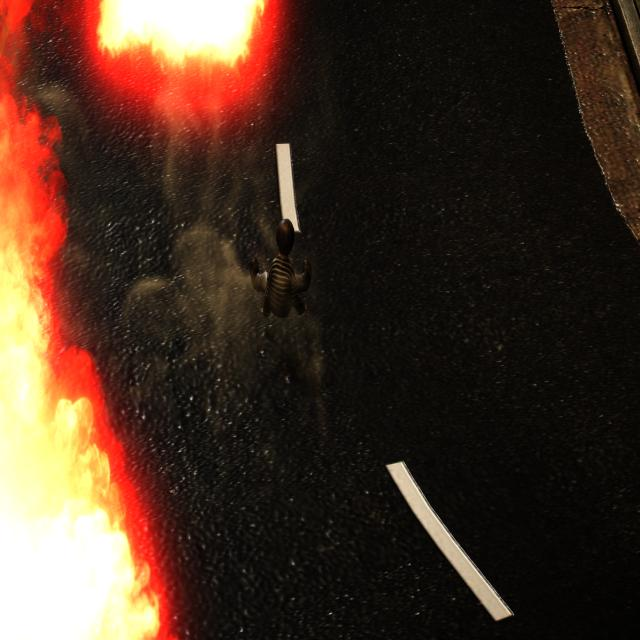Human: (247, 212, 313, 321)
